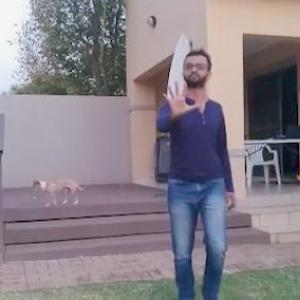follow_hand: (159, 73, 202, 122)
